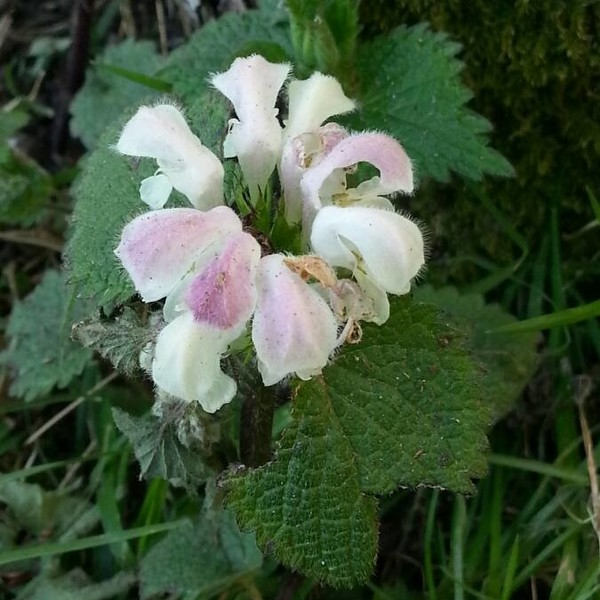obstacle: (48, 46, 536, 474)
